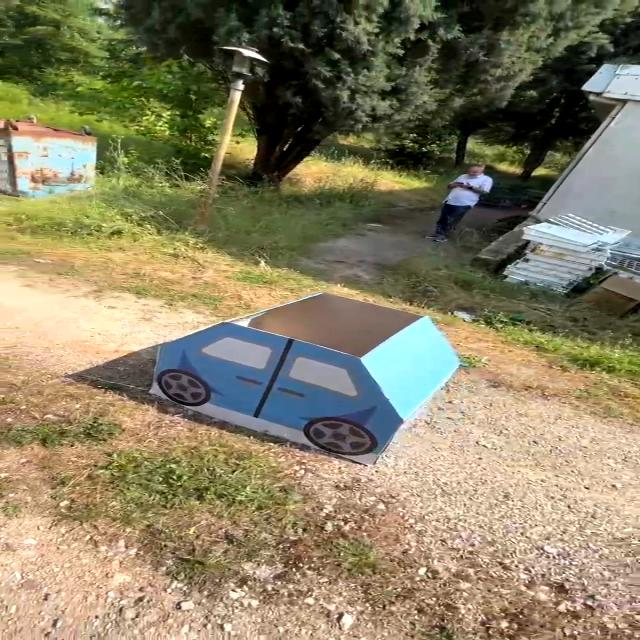blue_car: (130, 273, 479, 472)
